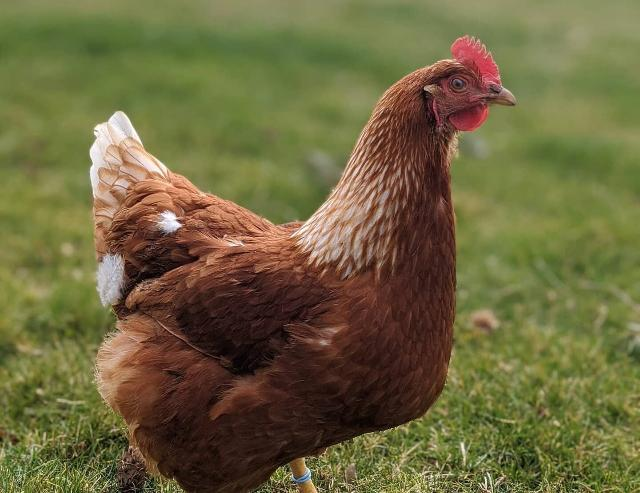Chicken: (91, 35, 518, 493)
